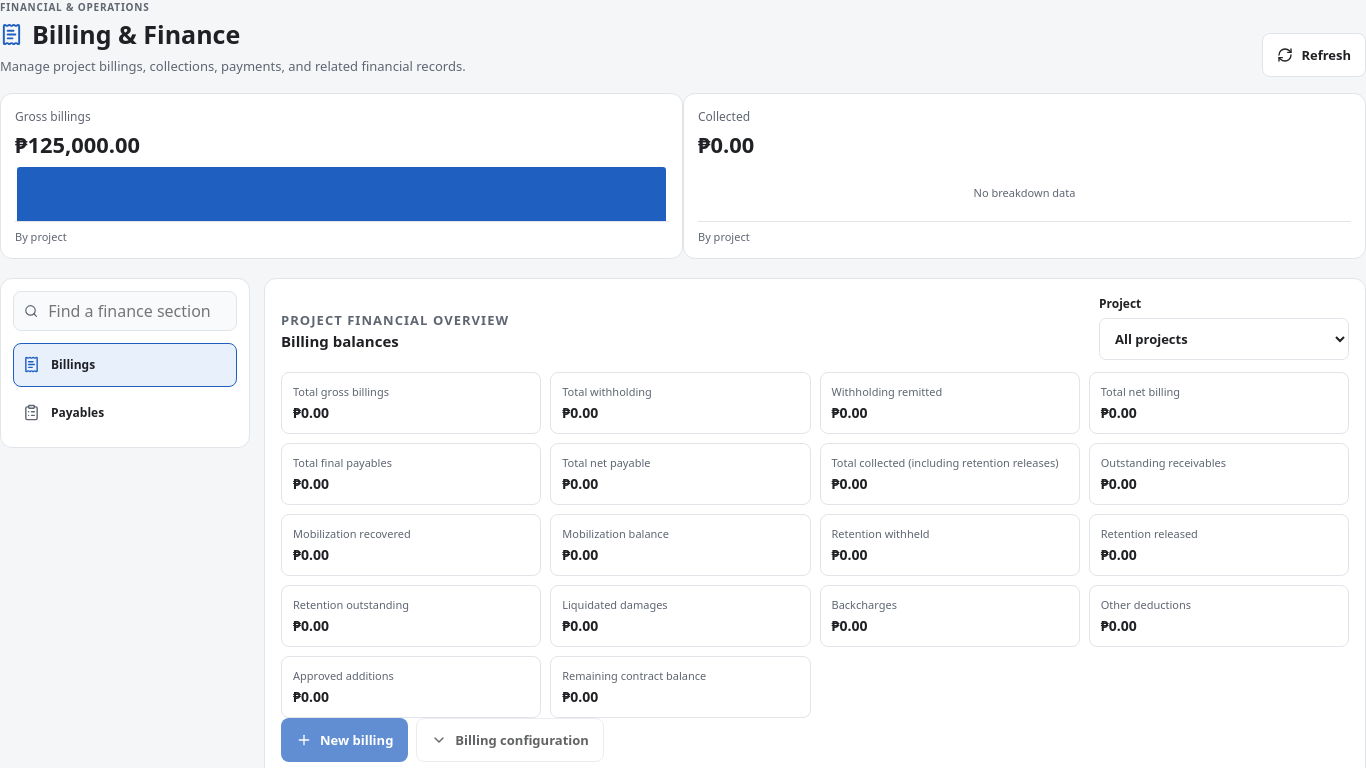
Test: ConstructionWorkspace › opens Billing & Finance directly with its sections and no nested Royalties entry
Click the button "Payables". click: (125, 413)
box: [13,391,237,435]
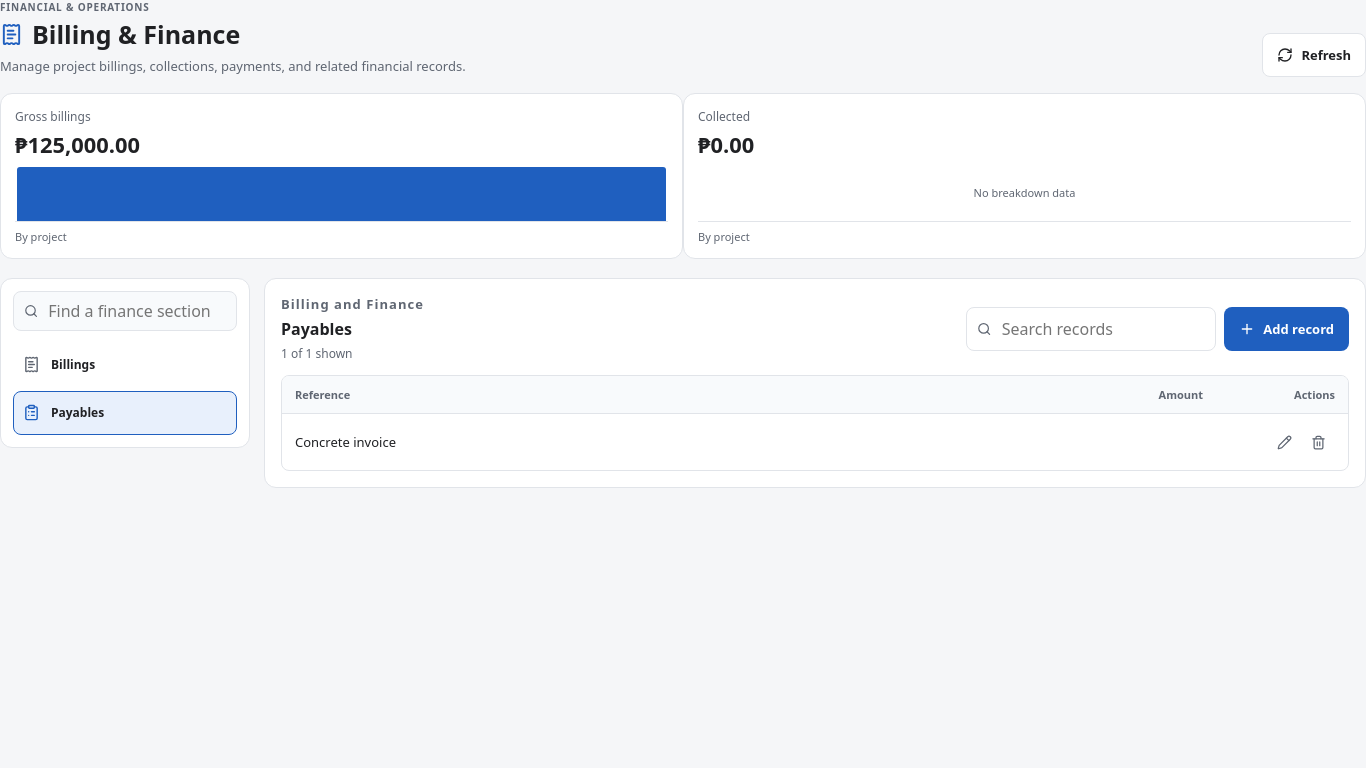
Expected: the text "Concrete invoice" is shown, [282,414,883,470]
